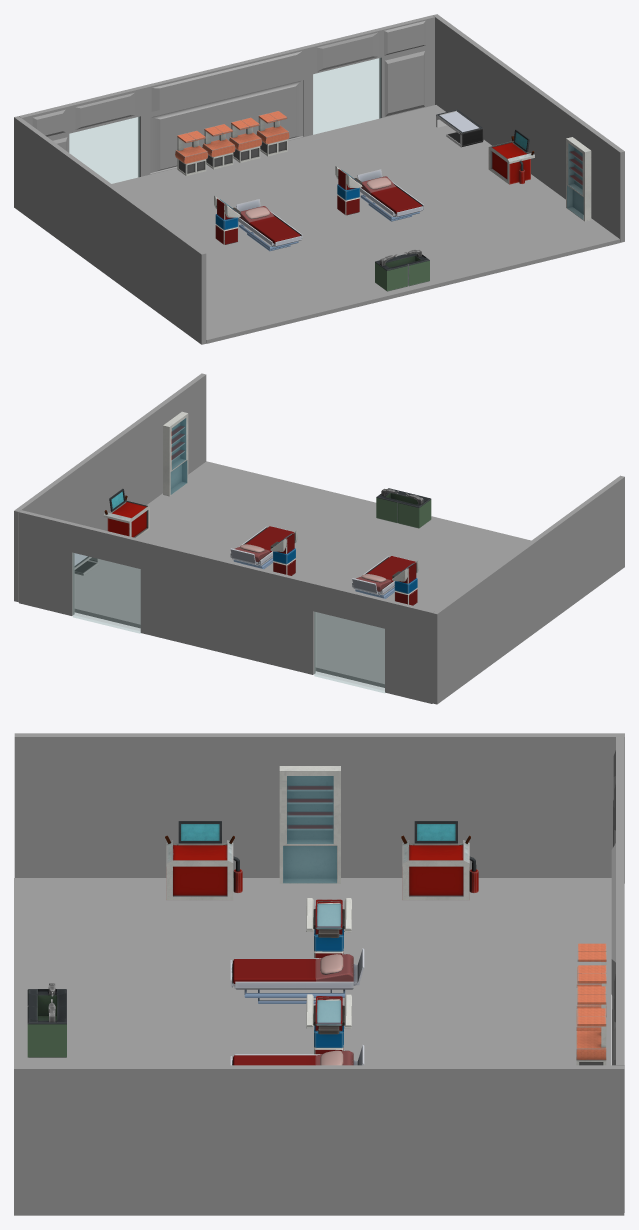
Rendered from Fase3.fbx.
3 views of the same model, one above another, from view 1: azimuth 30°, elevation 25°; view 2: azimuth 150°, elevation 25°; view 3: azimuth 270°, elevation 25° (orthographic). The views are drawn at different scales.
Parts seen in each view (by area): view 1: CHAO, PAREDE_TRAS, PAREDE_L, PAREDE_R, PORTA, PORTA2, MACA, MACA1, ARMARIO1, MESA_M, MESA_C4, MESA_TIPO3 (+6 smaller); view 2: CHAO, PAREDE_TRAS, PAREDE_L, PAREDE_R, PORTA2, PORTA, ARMARIO1, MESA_M, MESA_C4, MACA, MACA1, HUD1 (+1 smaller); view 3: CHAO, PAREDE_R, PAREDE_L, ARMARIO, MESA_C3, MESA_C2, MACA, PAREDE_TRAS, MESA_M, HUD2, HUD1, MACA1 (+4 smaller).
Boxes of the visible parts, x1,y1,x2,y2 form: CHAO: (112, 105, 619, 343); PAREDE_TRAS: (19, 15, 434, 176); PAREDE_L: (14, 116, 206, 344); PAREDE_R: (433, 14, 624, 242); PORTA: (313, 58, 380, 134); PORTA2: (69, 117, 139, 183); MACA: (236, 199, 302, 251); MACA1: (357, 169, 423, 221); ARMARIO1: (566, 137, 591, 221); MESA_M: (375, 249, 429, 291); MESA_C4: (488, 129, 534, 184); MESA_TIPO3: (436, 109, 483, 147); CHAO: (74, 461, 531, 687); PAREDE_TRAS: (19, 510, 434, 703); PAREDE_L: (432, 475, 624, 704); PAREDE_R: (14, 373, 206, 602); PORTA2: (314, 612, 384, 692); PORTA: (73, 553, 140, 633); ARMARIO1: (163, 411, 188, 496); MESA_M: (376, 488, 431, 528); MESA_C4: (103, 488, 149, 538); MACA: (352, 556, 415, 598); MACA1: (230, 526, 294, 569); HUD1: (392, 560, 419, 605); CHAO: (14, 878, 611, 1065); PAREDE_R: (14, 1065, 624, 1215); PAREDE_L: (14, 733, 624, 883); ARMARIO: (279, 766, 340, 883); MESA_C3: (401, 821, 478, 900); MESA_C2: (165, 821, 242, 900); MACA: (230, 948, 364, 1003); PAREDE_TRAS: (611, 737, 624, 1212); MESA_M: (27, 983, 66, 1057); HUD2: (306, 994, 351, 1054); HUD1: (306, 898, 351, 957); MACA1: (230, 1045, 364, 1065).
Size of the model in its own units: 34.09 by 7.1 by 26.22.
Materials: 11 (7 with a texture image).
